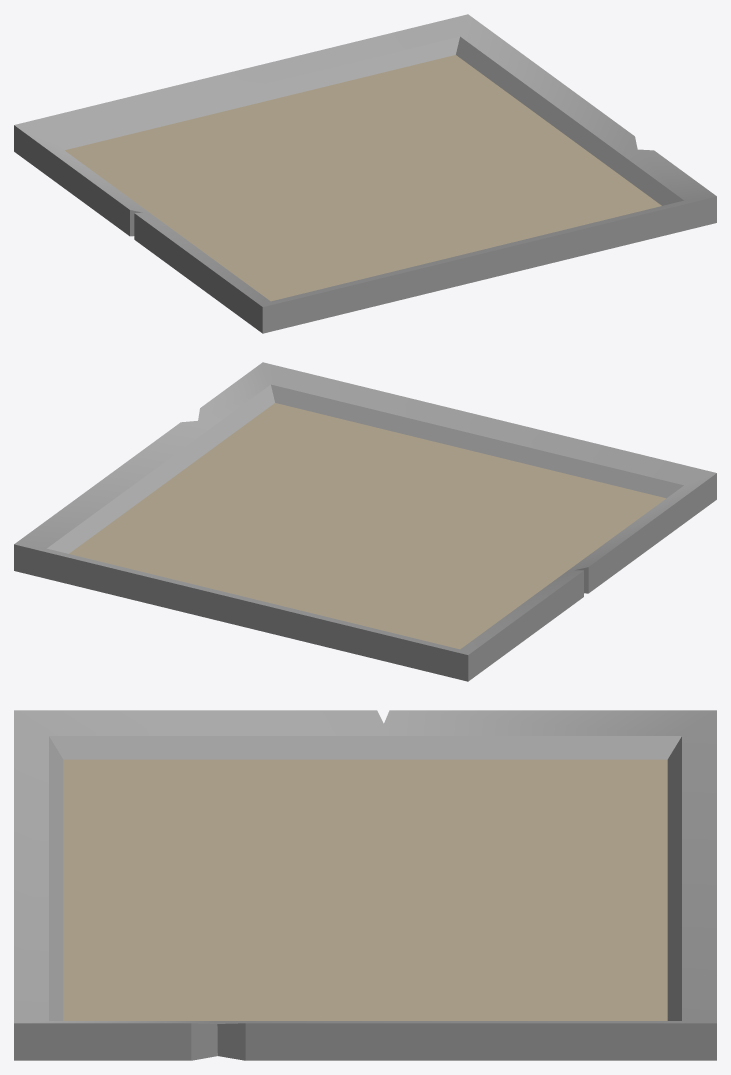
Rendered from PaintingSmall.fbx.
3 views of the same model, one above another, from view 1: azimuth 30°, elevation 25°; view 2: azimuth 150°, elevation 25°; view 3: azimuth 270°, elevation 25° (orthographic). The views are drawn at different scales.
Parts seen in each view (by area): view 1: Picture, PaintingSmall; view 2: Picture, PaintingSmall; view 3: Picture, PaintingSmall.
Boxes of the visible parts, box(x1,y1,x2,y2) form: Picture: box(65, 55, 661, 301); PaintingSmall: box(14, 14, 716, 333); Picture: box(69, 403, 665, 649); PaintingSmall: box(14, 362, 716, 681); Picture: box(63, 759, 667, 1020); PaintingSmall: box(14, 710, 716, 1060).
Bounding box in the file's own units: 1.67 × 0.0935 × 1.58.
